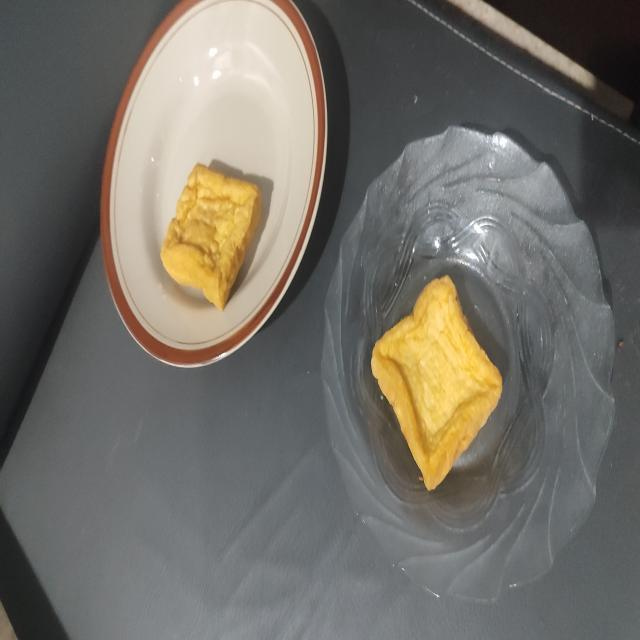tahu_goreng: (371, 276, 502, 490), (161, 163, 262, 310)
